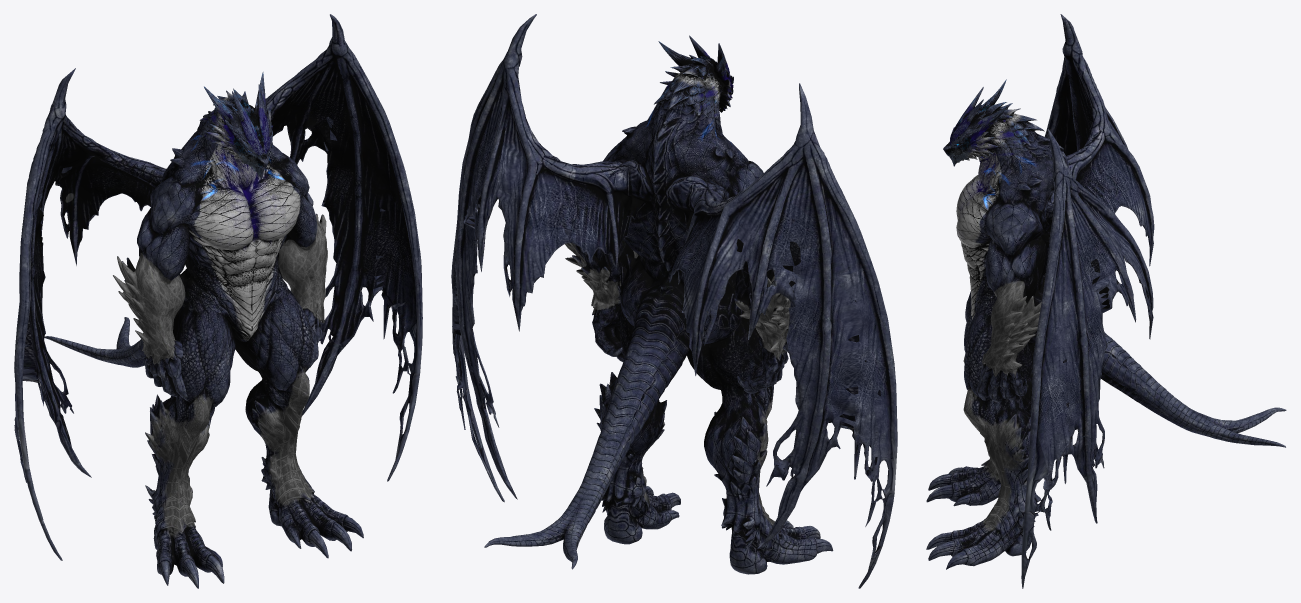
Rendered from drake.glb.
3 renders of one model, left to right at view 1: azimuth 30°, elevation 25°; view 2: azimuth 150°, elevation 25°; view 3: azimuth 270°, elevation 25°, orthographic. The views are drawn at different scales.
Parts seen in each view (by area): view 1: char; view 2: char; view 3: char.
Part boxes in pixels (x1,y1,x2,y2): char: (14, 14, 422, 588); char: (451, 14, 897, 588); char: (926, 14, 1286, 588).
Bounding box in the file's own units: 2.42 × 2.74 × 1.97.
15 materials, 15 textured.
